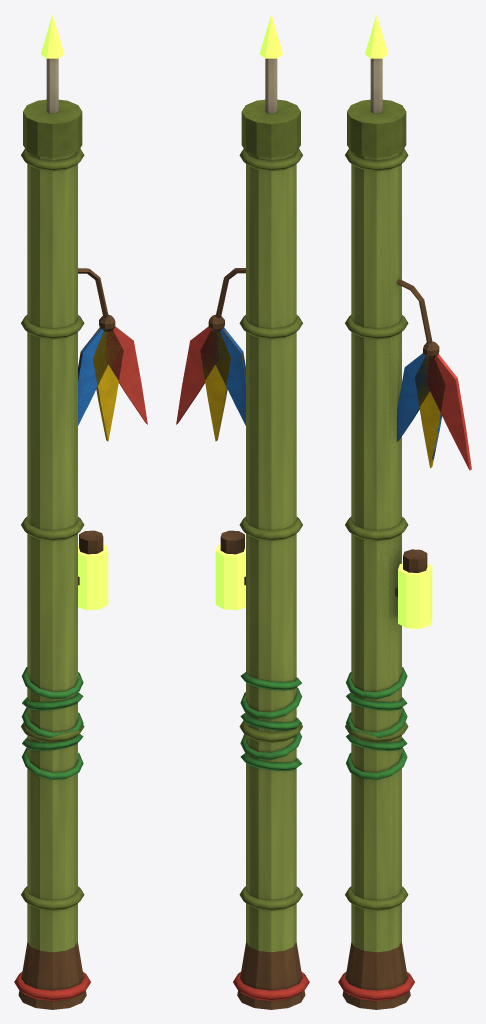
Rendered from 03_jungle_ranged.fbx.
3 views of the same model, side by side, from view 1: azimuth 30°, elevation 25°; view 2: azimuth 150°, elevation 25°; view 3: azimuth 330°, elevation 25° (orthographic).
Parts seen in each view (by area): view 1: Weapon; view 2: Weapon; view 3: Weapon.
Part boxes in pixels (x1=…): Weapon: x1=14, y1=14, x2=147, y2=1009; Weapon: x1=176, y1=14, x2=309, y2=1009; Weapon: x1=338, y1=14, x2=471, y2=1009.
Bounding box in the file's own units: 19.04 × 140 × 9.97.
Materials: 2 (1 with a texture image).
